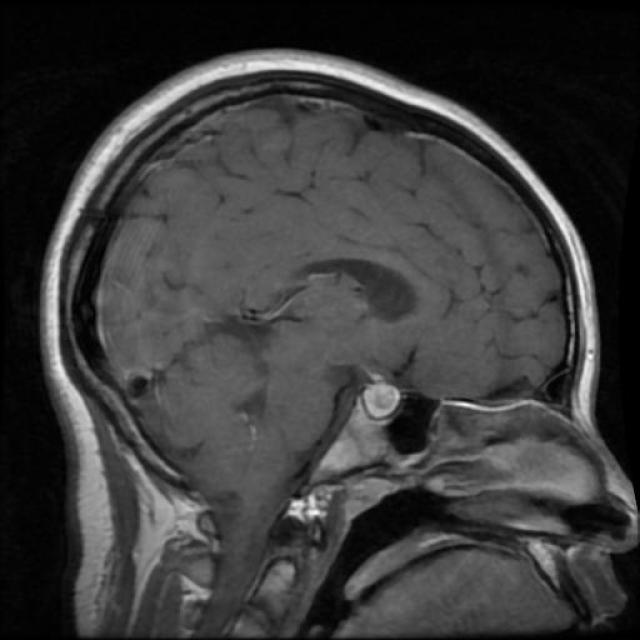pituitary: (348, 367, 408, 429)
